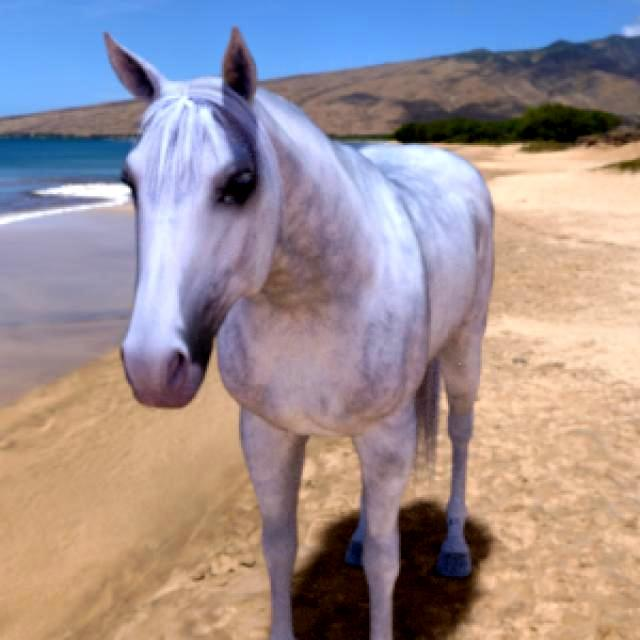horse: (107, 29, 494, 640)
